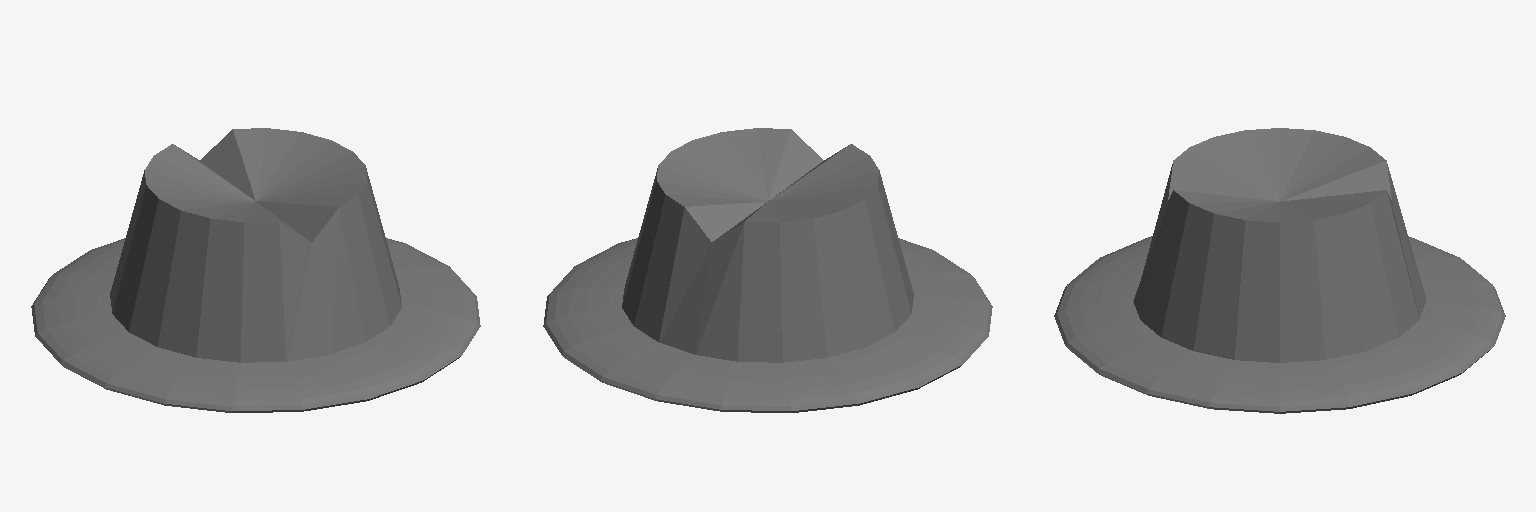
File: FEDORA.obj
3 renders of one model, left to right at view 1: azimuth 30°, elevation 25°; view 2: azimuth 150°, elevation 25°; view 3: azimuth 270°, elevation 25°, orthographic.
Parts seen in each view (by area): view 1: FEDORA:polySurface1; view 2: FEDORA:polySurface1; view 3: FEDORA:polySurface1.
Boxes of the visible parts, box(x1,y1,x2,y2) form: FEDORA:polySurface1: box(31, 128, 480, 412); FEDORA:polySurface1: box(543, 128, 992, 412); FEDORA:polySurface1: box(1054, 128, 1505, 413).
Bounding box in the file's own units: 2 × 0.7888 × 2.